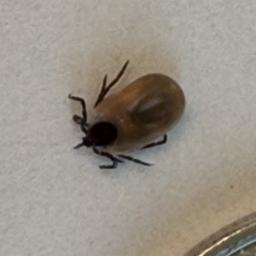Ixodes scapularis: (68, 58, 186, 169)
